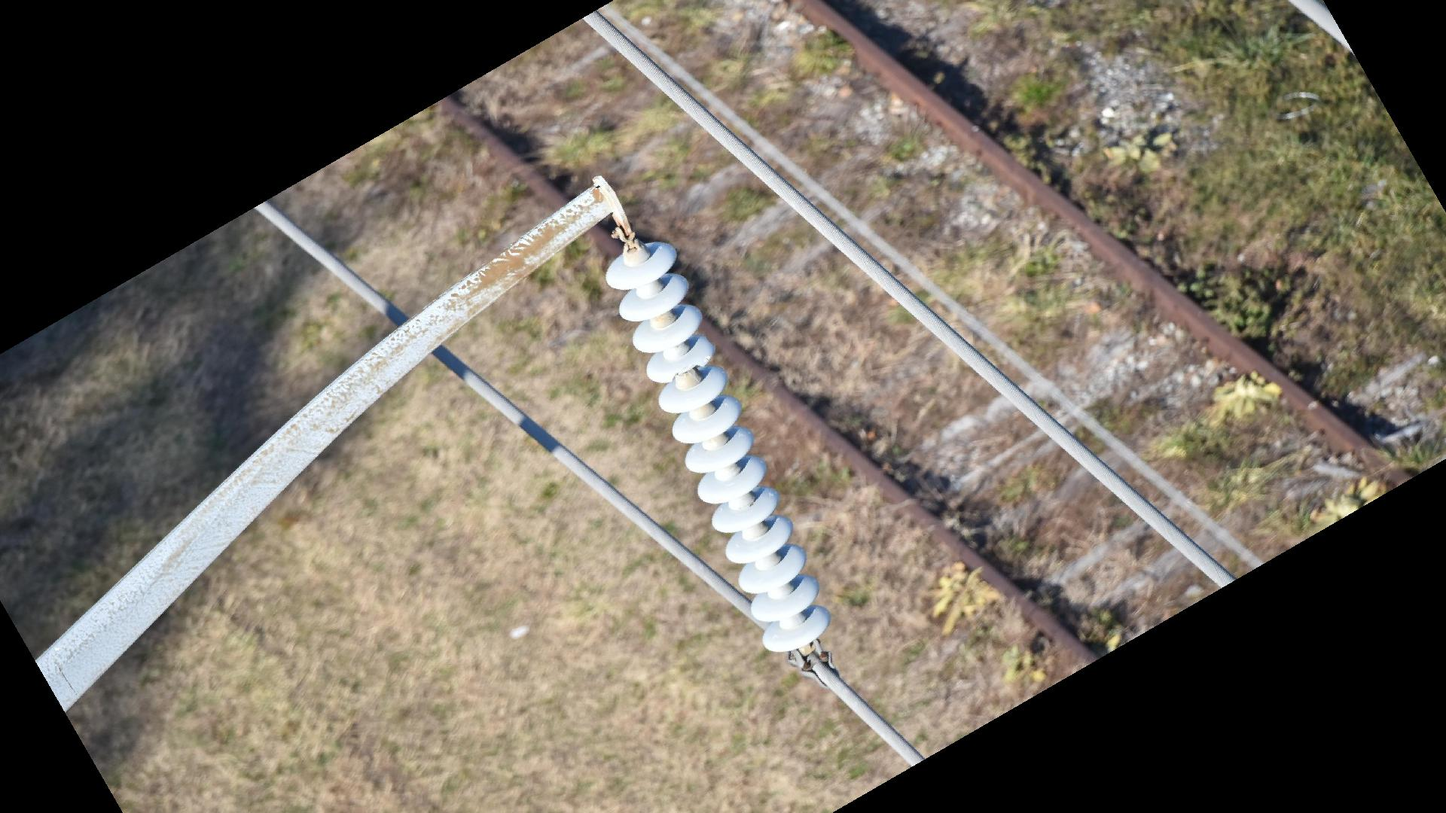insulator: (601, 239, 834, 655)
insulator_breakage: (665, 356, 709, 388)
